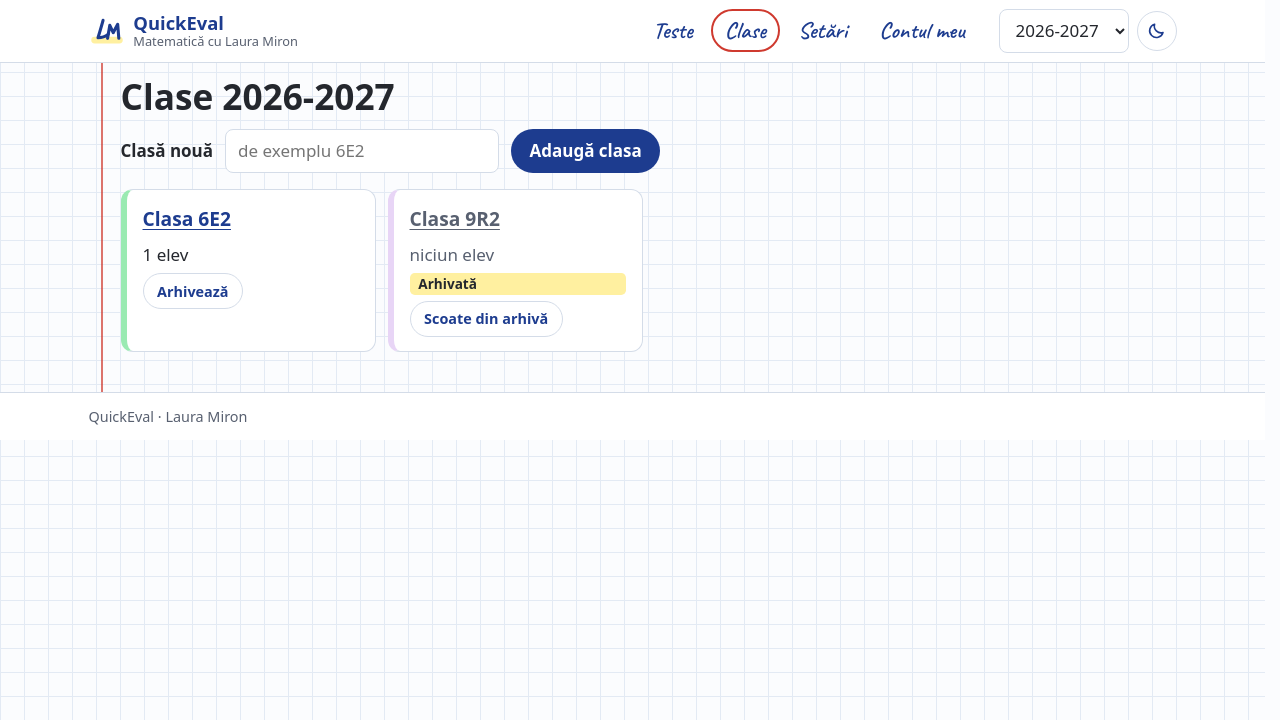
it: ClassesPage › switches the school year from the header
Check: the heading "Clase 2026-2027" is shown, box [120,72,395,120]
Select "2027-2028" in the dropdown named "Anul școlar" at [1064, 31], box [998,9,1128,53]
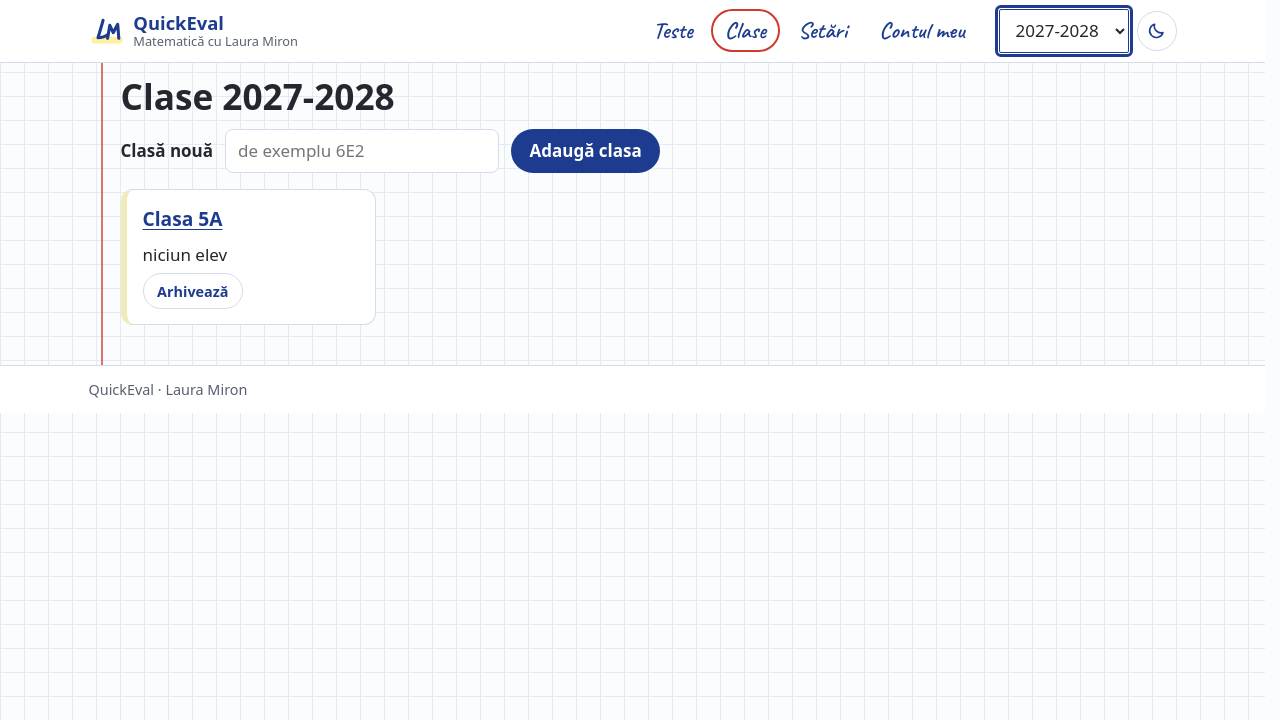
Check: the heading "Clase 2027-2028" is shown, box [120,72,395,120]
Check: the link "Clasa 5A" is shown, box [142,205,222,232]
